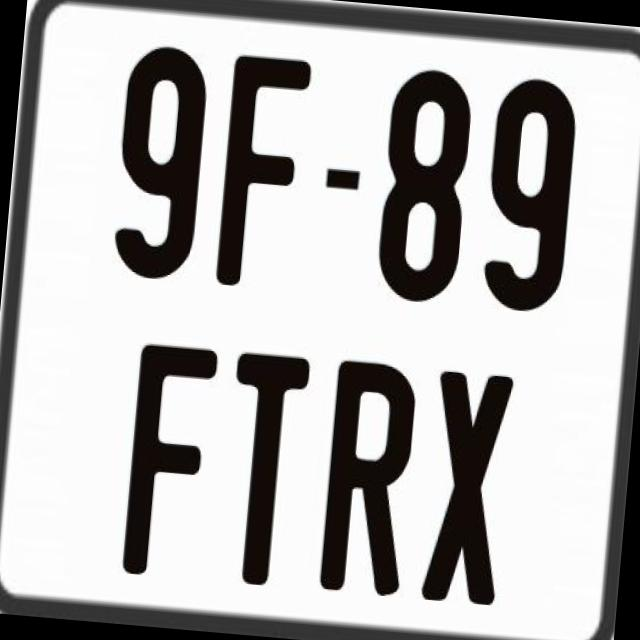8: (374, 65, 476, 308)
9: (476, 70, 581, 316), (108, 43, 211, 284)
F: (213, 51, 315, 296), (117, 343, 220, 584)
R: (316, 356, 418, 594)
T: (214, 348, 306, 593)
X: (418, 367, 514, 610)
